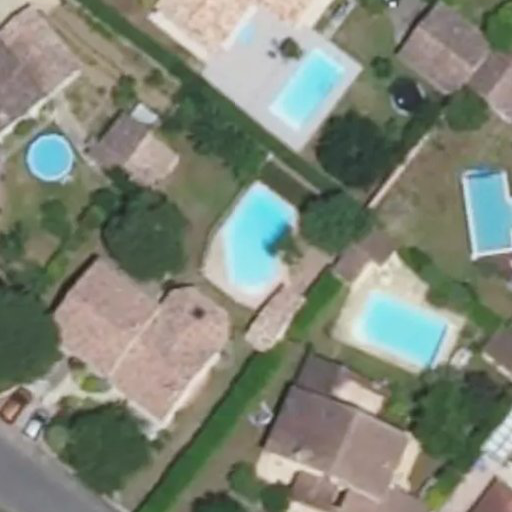pool: (355, 292, 448, 373), (229, 182, 296, 292), (273, 52, 345, 129), (465, 172, 512, 255), (27, 132, 75, 183)
